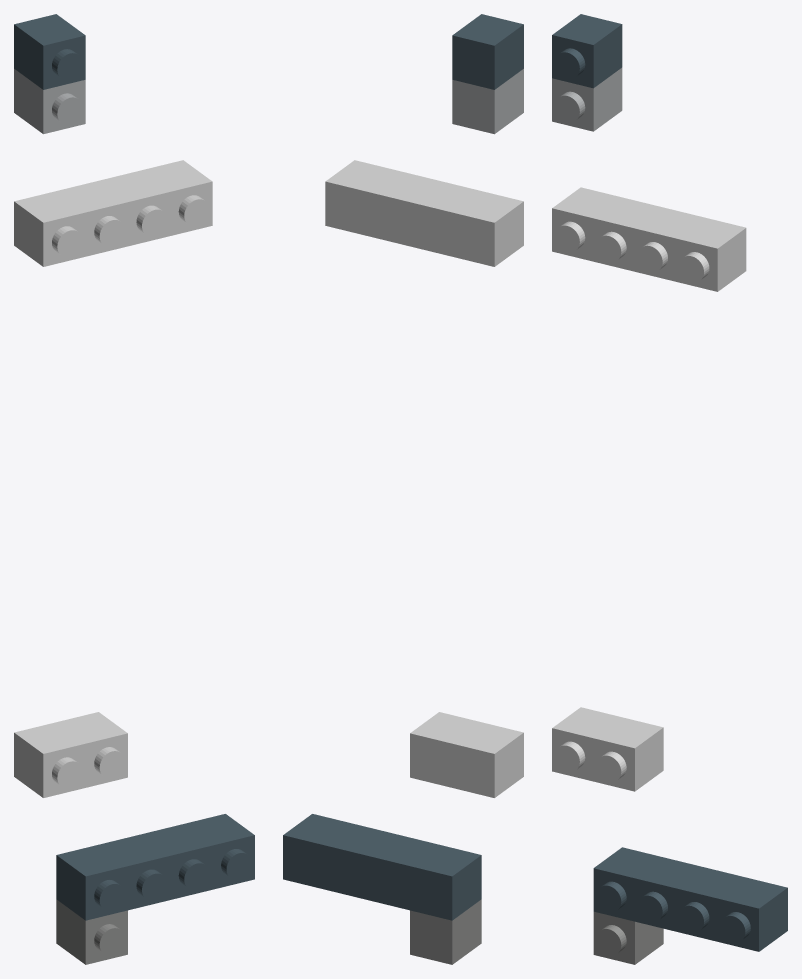
Rendered from current.glb.
3 views of the same model, side by side, from view 1: azimuth 30°, elevation 25°; view 2: azimuth 150°, elevation 25°; view 3: azimuth 330°, elevation 25° (orthographic). The views are drawn at different scales.
Parts seen in each view (by area): view 1: world; view 2: world; view 3: world.
Boxes of the visible parts, x1,y1,x2,y2 form: world: (14,14,254,964); world: (283,14,523,964); world: (552,14,787,964).
Size of the model in its own units: 40 by 168 by 11.4.
